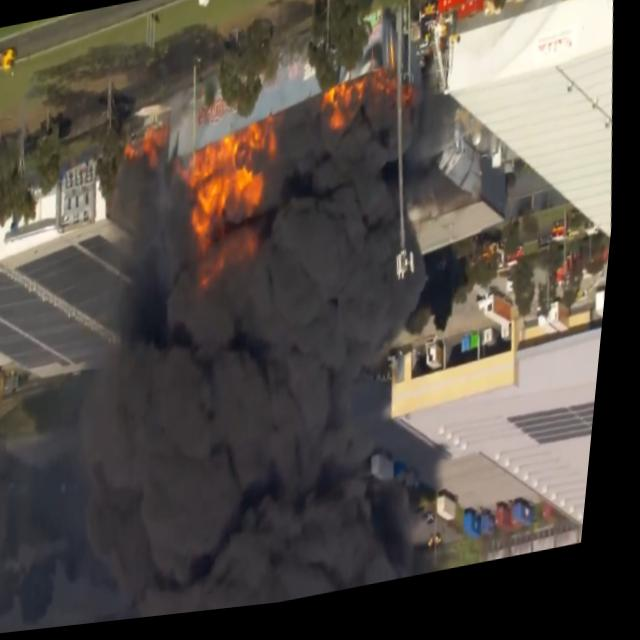Fire: (175, 126, 294, 294), (321, 76, 414, 143), (132, 102, 176, 178)
